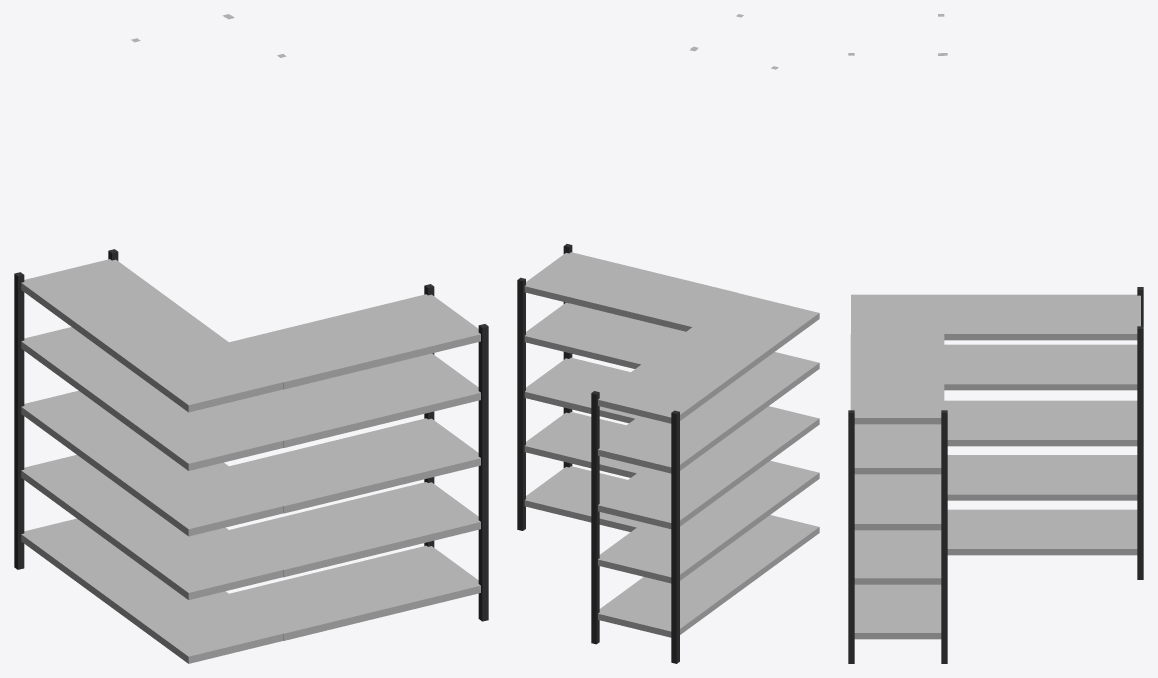
File: Res01_Tray_1.fbx
3 views of the same model, side by side, from view 1: azimuth 30°, elevation 25°; view 2: azimuth 150°, elevation 25°; view 3: azimuth 270°, elevation 25° (orthographic). The views are drawn at different scales.
Parts seen in each view (by area): view 1: Res01_Tray_1; view 2: Res01_Tray_1; view 3: Res01_Tray_1.
Part boxes in pixels (<box>): Res01_Tray_1: <box>14,14,488,663</box>; Res01_Tray_1: <box>517,14,819,663</box>; Res01_Tray_1: <box>848,14,1143,663</box>.
Bounding box in the file's own units: 278 × 540 × 276.
